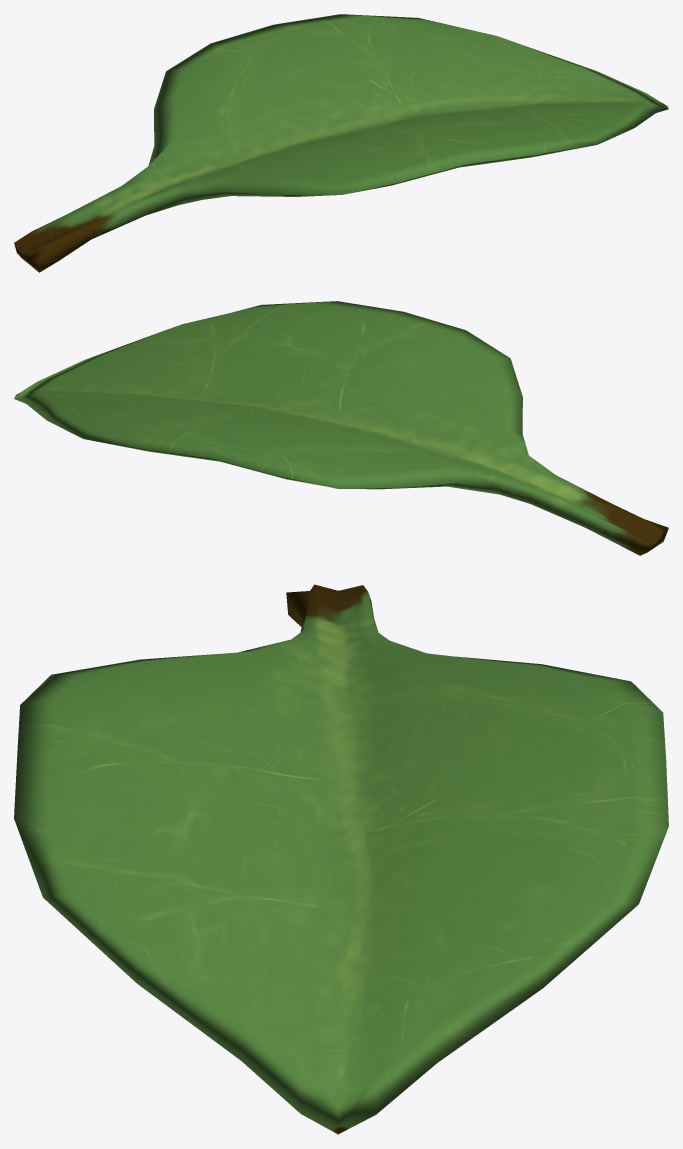
File: Platform_Moving.fbx
3 views of the same model, one above another, from view 1: azimuth 30°, elevation 25°; view 2: azimuth 150°, elevation 25°; view 3: azimuth 270°, elevation 25° (orthographic). The views are drawn at different scales.
Visible parts, largest first — view 1: Tealeaf; view 2: Tealeaf; view 3: Tealeaf.
Boxes of the visible parts, x1=… form: Tealeaf: x1=14, y1=14, x2=668, y2=272; Tealeaf: x1=14, y1=301, x2=668, y2=555; Tealeaf: x1=14, y1=584, x2=668, y2=1134.
Bounding box in the file's own units: 17.77 × 2.41 × 9.39.
